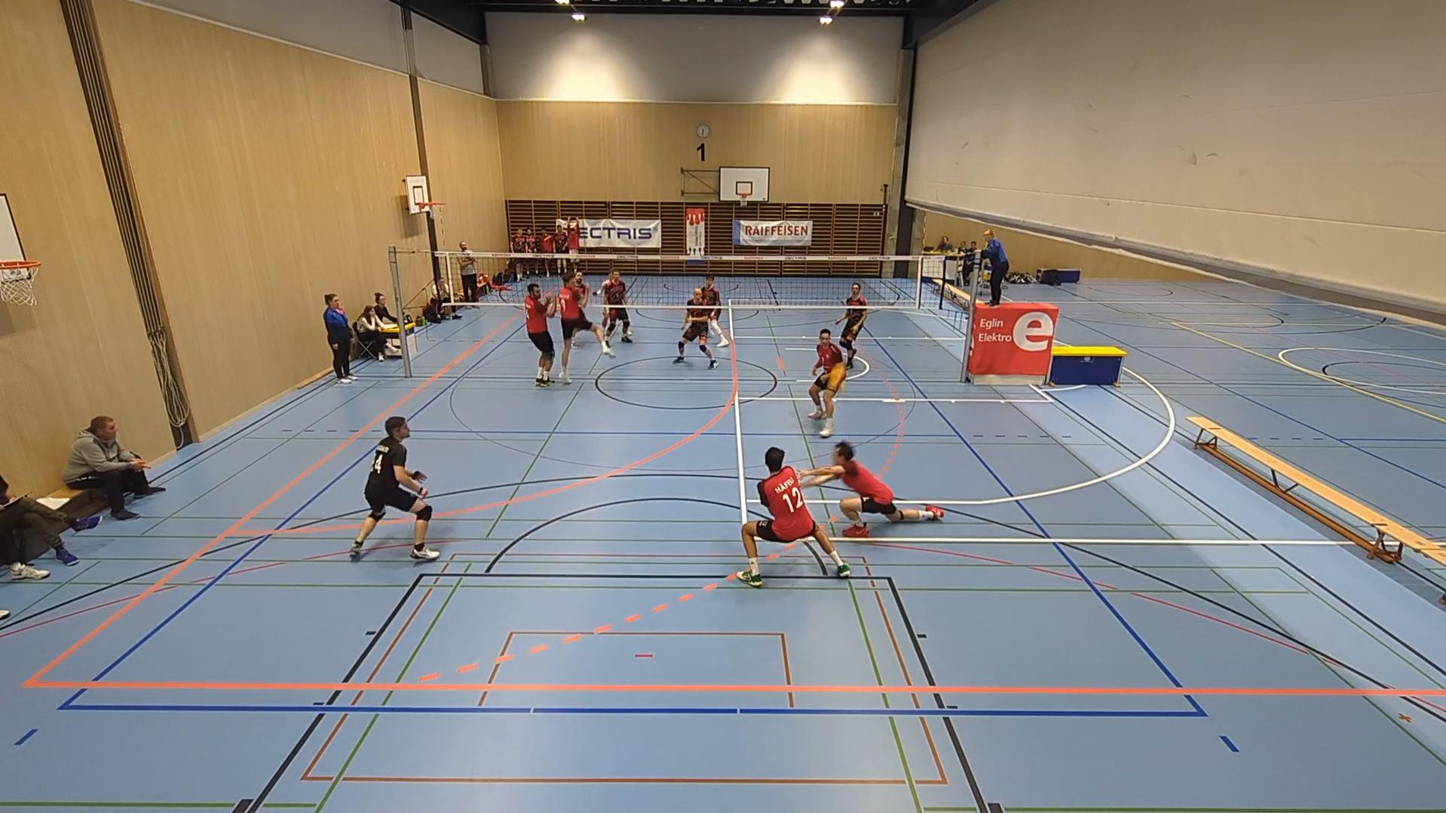difesa: (787, 445, 944, 533)
